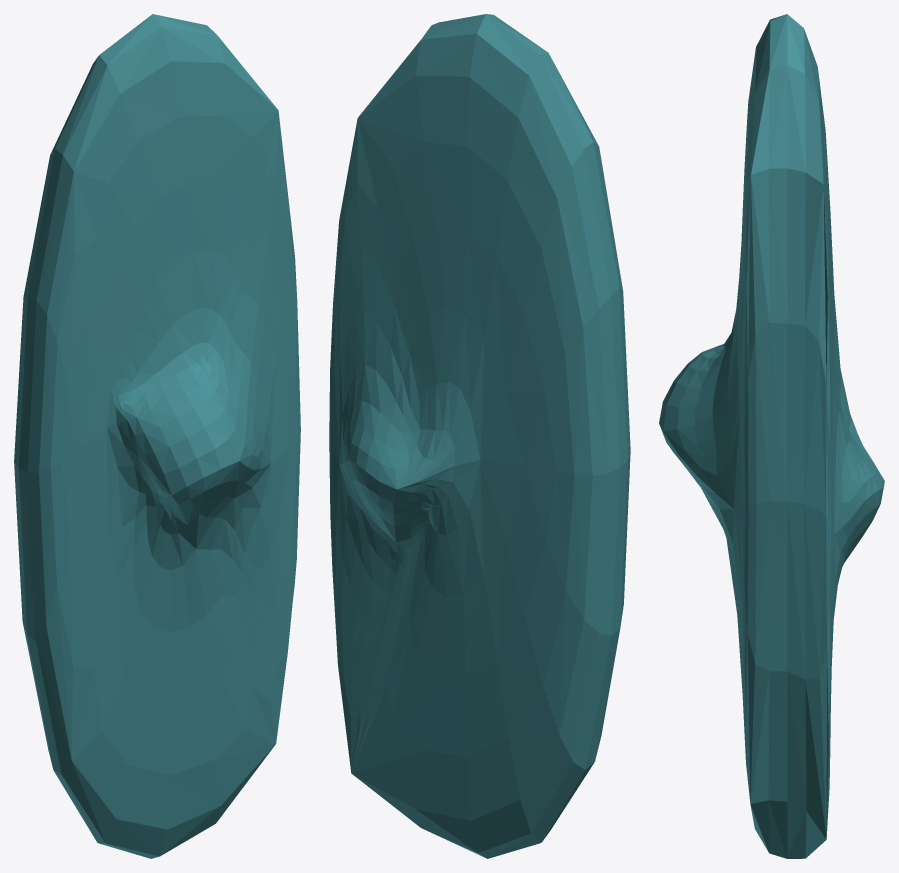
3 views of the same model, side by side, from view 1: azimuth 30°, elevation 25°; view 2: azimuth 150°, elevation 25°; view 3: azimuth 270°, elevation 25° (orthographic).
Visible parts, largest first — view 1: 526_Cube.2120; view 2: 526_Cube.2120; view 3: 526_Cube.2120.
Boxes of the visible parts, left/top/right/bottom form: 526_Cube.2120: left=14, top=14, right=300, bottom=858; 526_Cube.2120: left=329, top=14, right=630, bottom=858; 526_Cube.2120: left=659, top=14, right=884, bottom=858.
Size of the model in its own units: 3.67 by 10.93 by 2.66.
